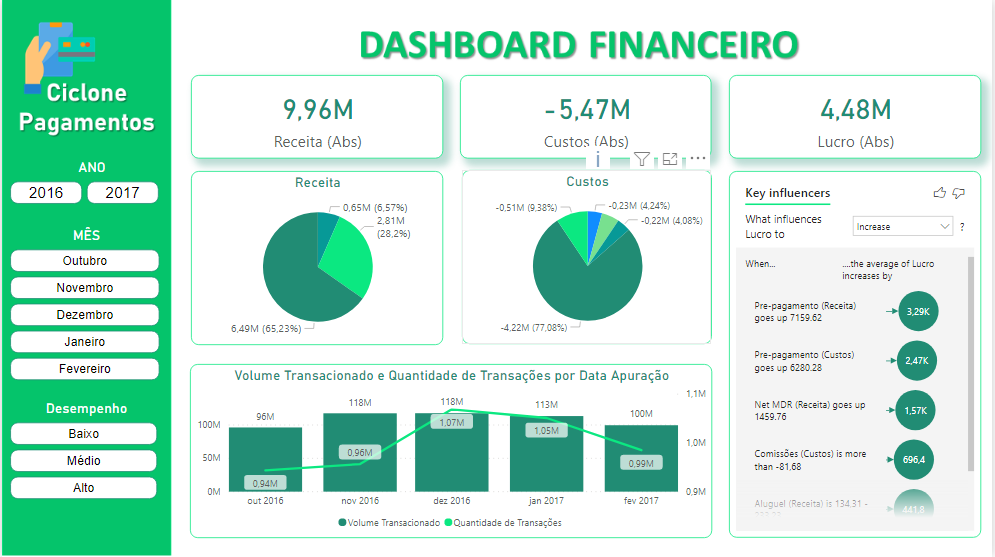

This screenshot's page, from the dashboard's own definition file:
{"tool":"powerbi","page":{"name":"Financeiro","canvas":[1280,720],"ordinal":1},"visuals":[{"type":"ChicletSlicer1448559807354","title":"ANO","fields":{"Category":["Clientes.Data Apuração.Variation.Date Hierarchy.Year"]},"box":[2.8,205.1,227.1,88.1],"z":0},{"type":"ChicletSlicer1448559807354","title":"MÊS","fields":{"Category":["Clientes.Mês Apuração"]},"box":[2.8,293.2,213.3,224.3],"z":1000},{"type":"card","fields":{"Values":["Sum(Clientes.Total (Receita))"]},"box":[243.8,97,325.5,108.1],"z":2000},{"type":"card","fields":{"Values":["Sum(Clientes.Total (Custos))"]},"box":[591.5,97,325,108.1],"z":3000},{"type":"card","fields":{"Values":["Sum(Clientes.Lucro )"]},"box":[939.2,97,325.5,108.1],"z":4000},{"type":"pieChart","title":"Receita","fields":{"Y":["Sum(Clientes.Aluguel (Receita))","Sum(Clientes.Net MDR (Receita))","Sum(Clientes.Pre-pagamento (Receita))"]},"box":[243.8,221.6,325.5,225],"z":5000},{"type":"keyDriversVisual","fields":{"Target":["Clientes.Lucro "],"ExplainBy":["Sum(Clientes.Pre-pagamento (Receita))","Sum(Clientes.Net MDR (Receita))","Sum(Clientes.Aluguel (Receita))","Sum(Clientes.Comissões (Custos))","Sum(Clientes.Equipamento/Logística (Custos))","Sum(Clientes.Outros (Custos))","Sum(Clientes.Pre-pagamento (Custos))","Sum(Clientes.Transacionais (Custos))"]},"box":[939.2,221.6,325.5,473.8],"z":6000},{"type":"pieChart","title":"Custos","fields":{"Y":["Sum(Clientes.Comissões (Custos))","Sum(Clientes.Equipamento/Logística (Custos))","Sum(Clientes.Outros (Custos))","Sum(Clientes.Pre-pagamento (Custos))","Sum(Clientes.Transacionais (Custos))"]},"box":[594.3,220.3,322.8,225],"z":7000},{"type":"lineClusteredColumnComboChart","title":"Volume Transacionado e Quantidade de Transações por Data Apuração","fields":{"Category":["Clientes.Data Apuração"],"Y":["Sum(Clientes.Volume Transacionado)"],"Y2":["Sum(Clientes.Quantidade de Transações)"]},"box":[242.4,471,674.6,225],"z":8000},{"type":"ChicletSlicer1448559807354","title":"Desempenho","fields":{"Category":["Clientes.Cluster"]},"box":[2.8,517.5,213.3,150],"z":9000}]}

Visuals, with their boxes in screenshot pixels (x1, y1, x2, y2), scaled from the page's 1280x720 canvas onto the 995x557 screenshot:
"ANO" ChicletSlicer1448559807354: 2/159/179/227
"MÊS" ChicletSlicer1448559807354: 2/227/168/400
card - Sum(Clientes.Total (Receita)): 190/75/443/159
card - Sum(Clientes.Total (Custos)): 460/75/712/159
card - Sum(Clientes.Lucro ): 730/75/983/159
"Receita" pieChart: 190/171/443/345
keyDriversVisual - Clientes.Lucro  x Sum(Clientes.Pre-pagamento (Receita)): 730/171/983/538
"Custos" pieChart: 462/170/713/344
"Volume Transacionado e Quantidade de Transações por Data Apuração" lineClusteredColumnComboChart: 188/364/713/538
"Desempenho" ChicletSlicer1448559807354: 2/400/168/516
